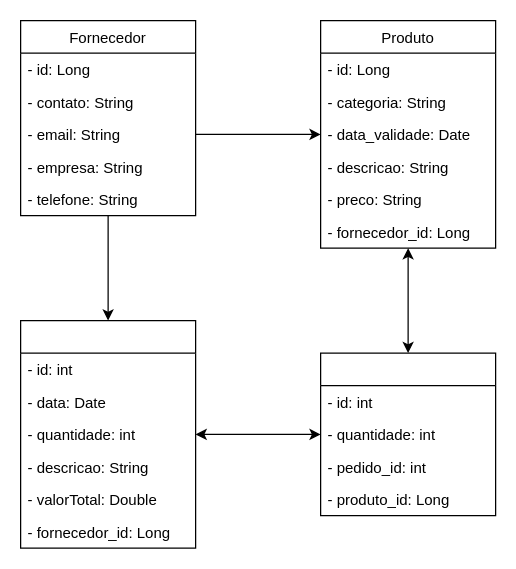
This 516x569 diagram has some shape labels left out. Here are the shapes that lost their labels. From the top down, the box of each, then its label:
(19, 319, 196, 548): Pedido
(319, 352, 496, 516): pedido_produto
